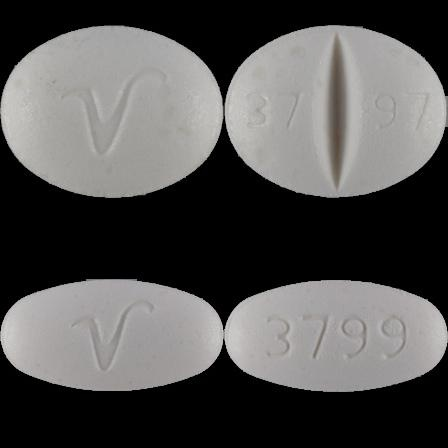0603-4110: (0, 0, 224, 224)
